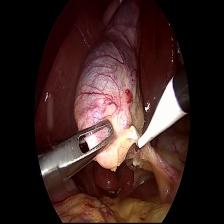Grasper: (32, 117, 115, 186)
Hook: (132, 80, 184, 158)
